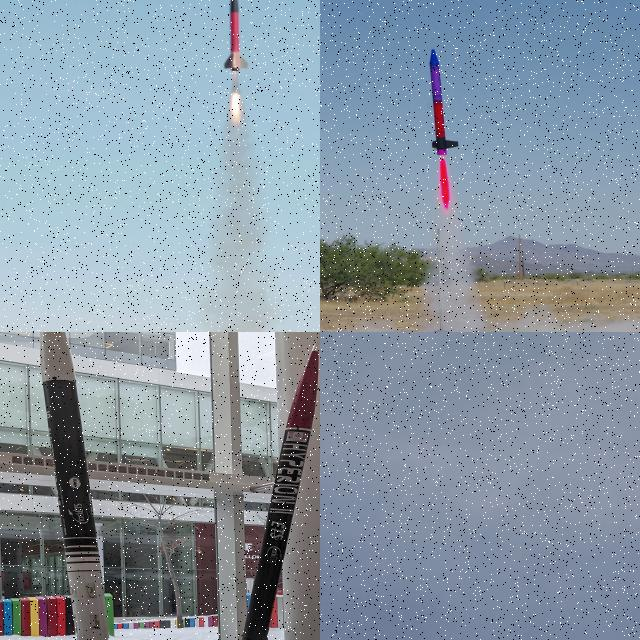Rocket: (241, 341, 319, 640), (39, 332, 110, 640), (429, 48, 459, 157), (222, 0, 250, 73)
